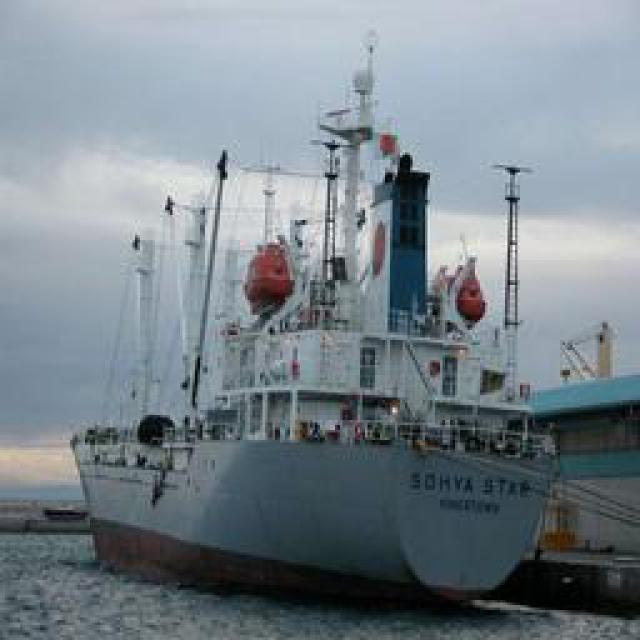Ship: (74, 15, 589, 618)
